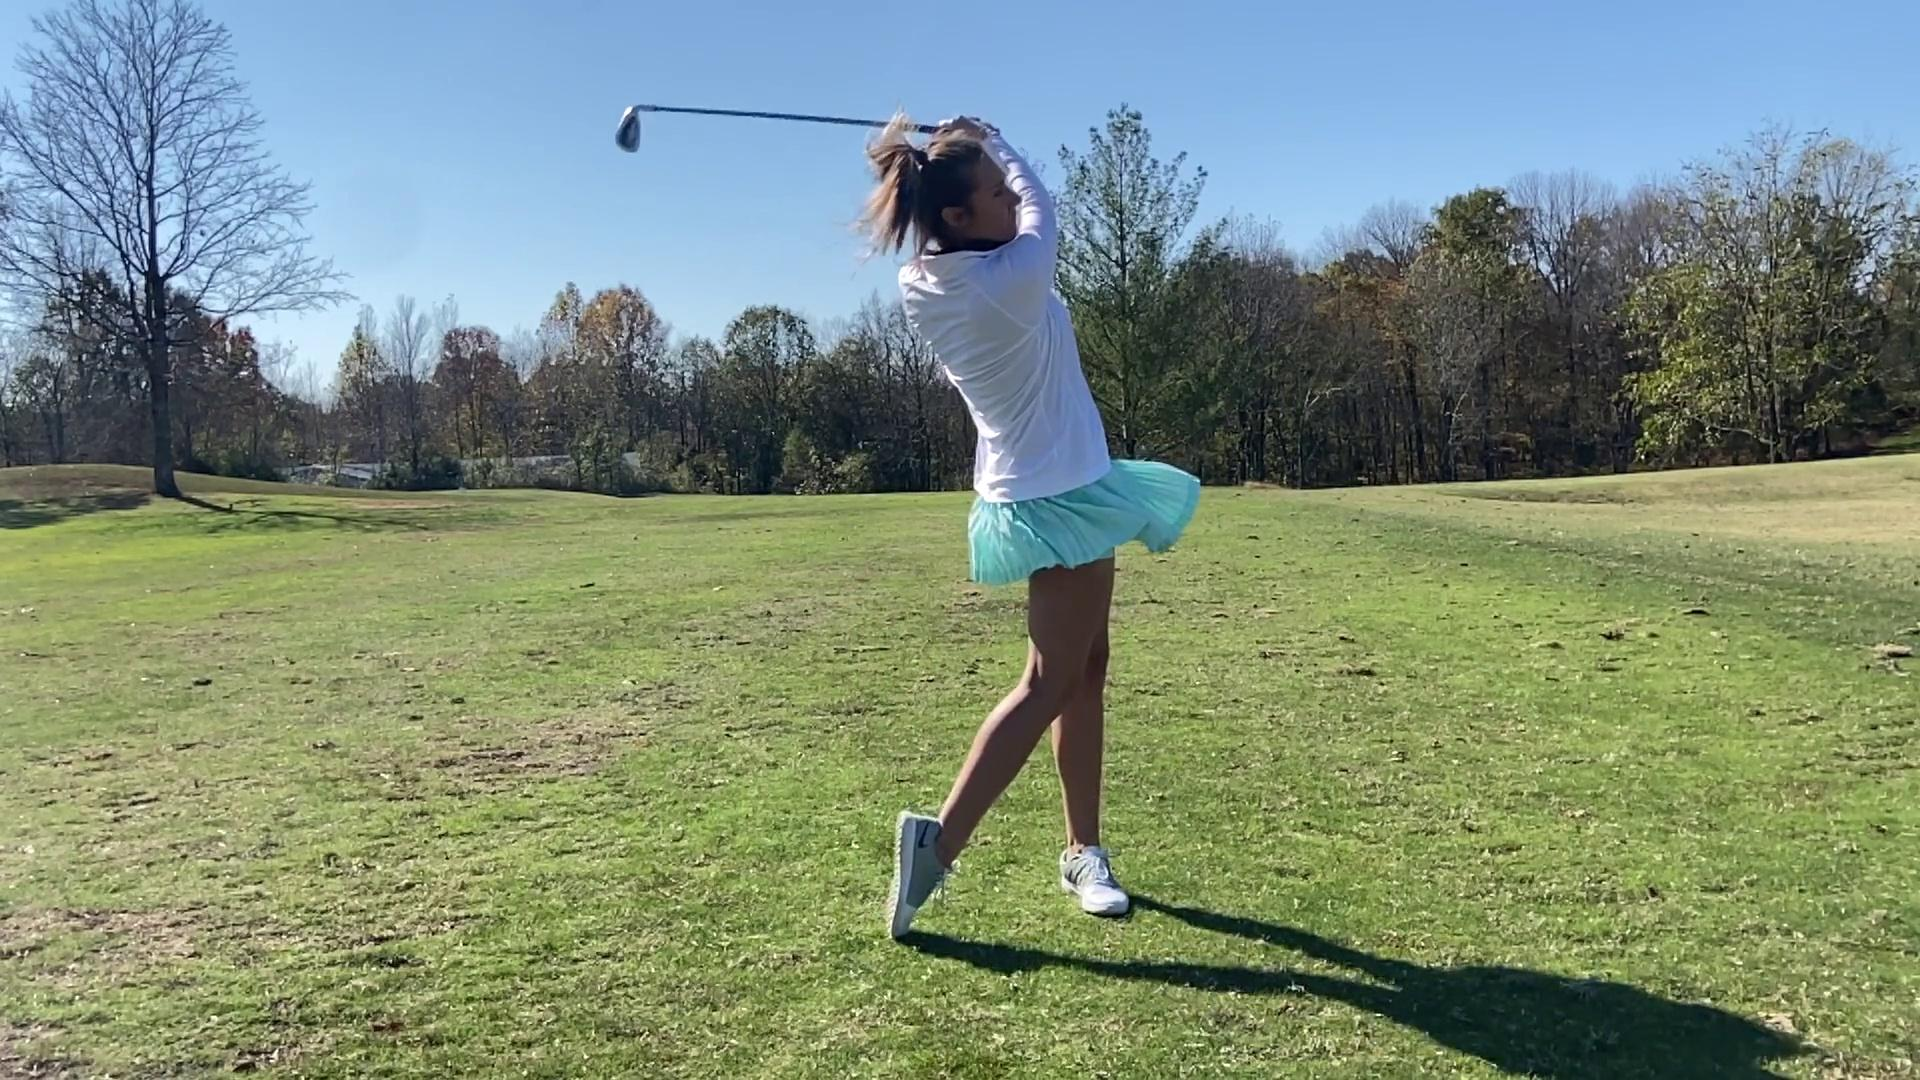ClubHead: (613, 102, 655, 154)
